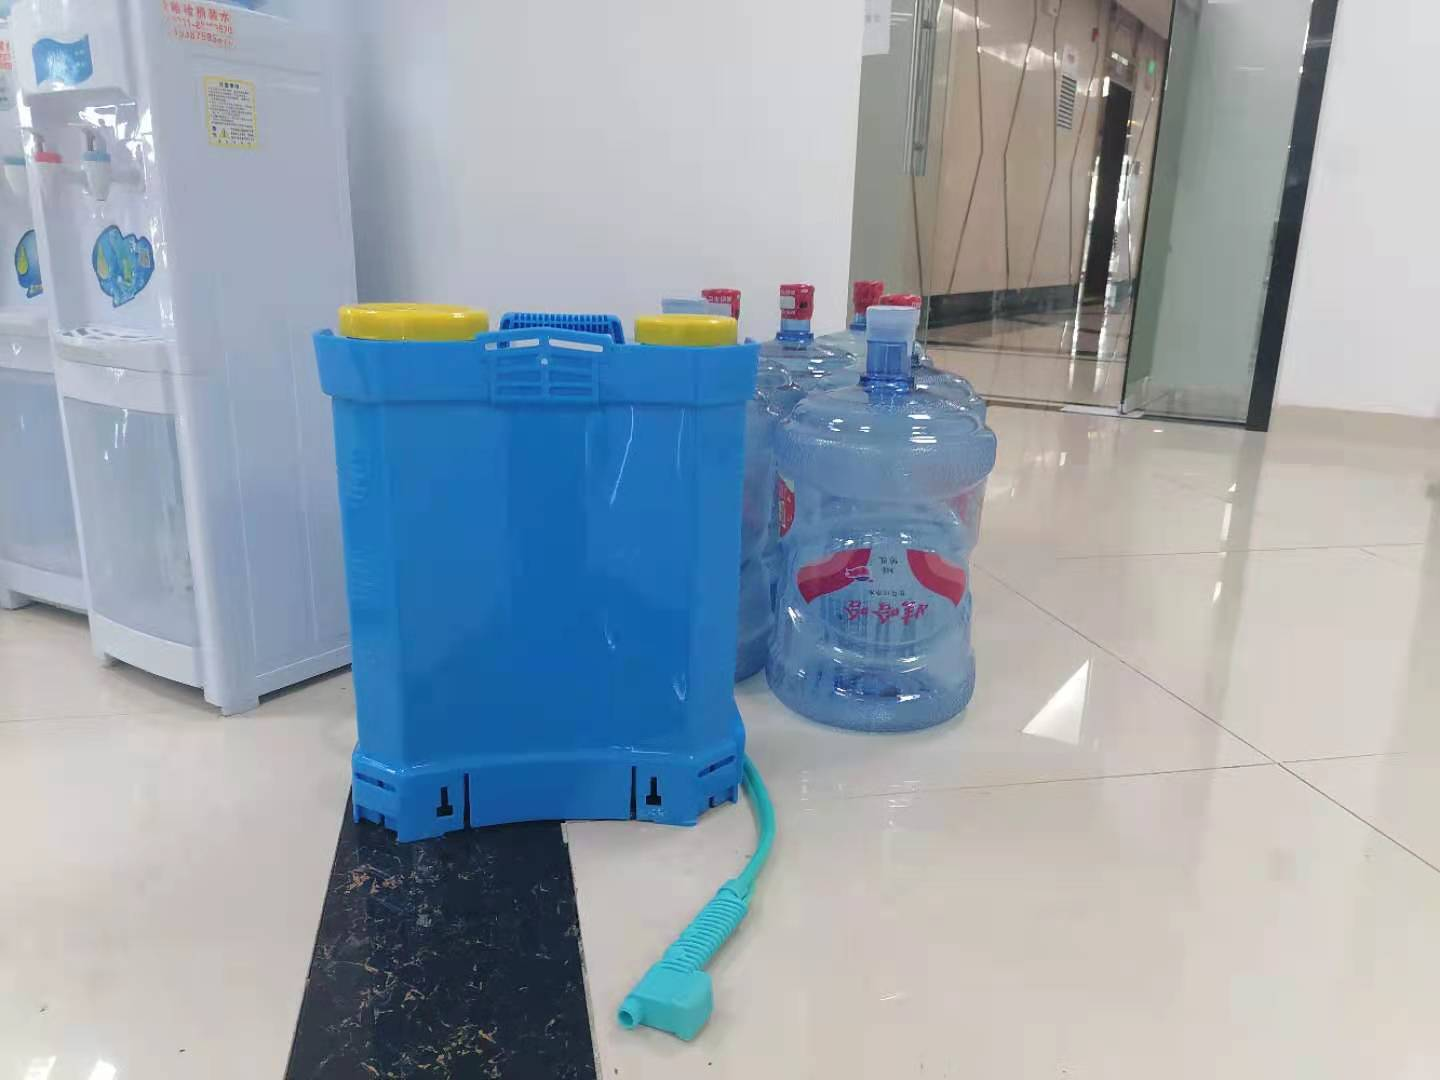berrl: (308, 290, 764, 841)
